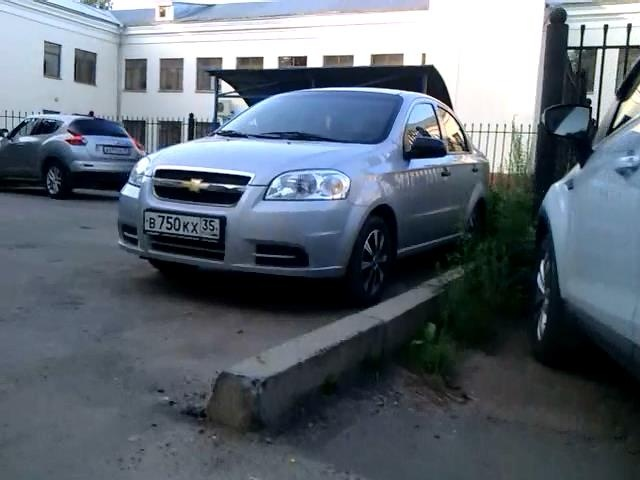car license plate: (142, 209, 220, 243), (103, 144, 132, 157)
